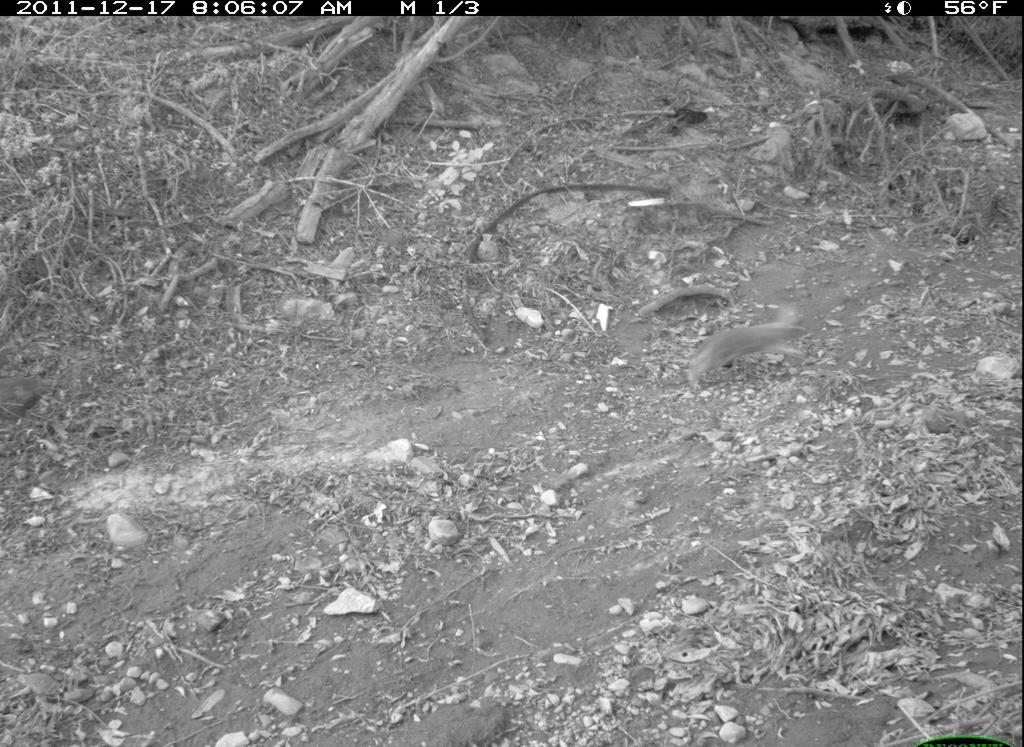rabbit: (676, 297, 817, 400)
